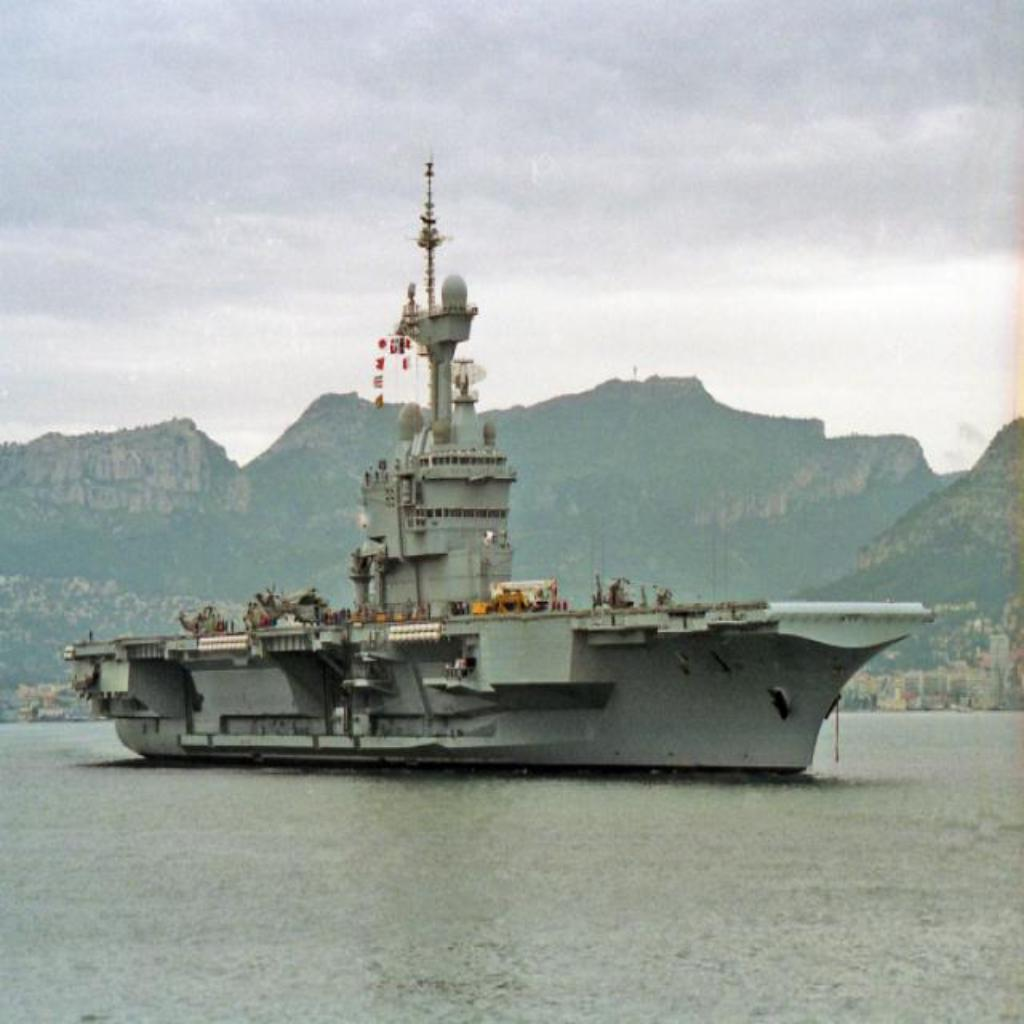Warship: (60, 150, 936, 786)
